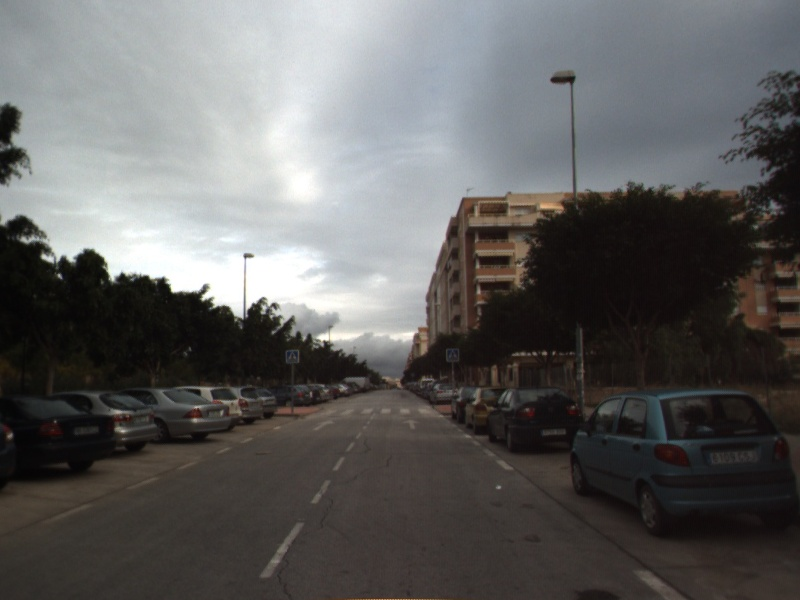STRAIGHT: (311, 418, 337, 432), (400, 417, 422, 431)
